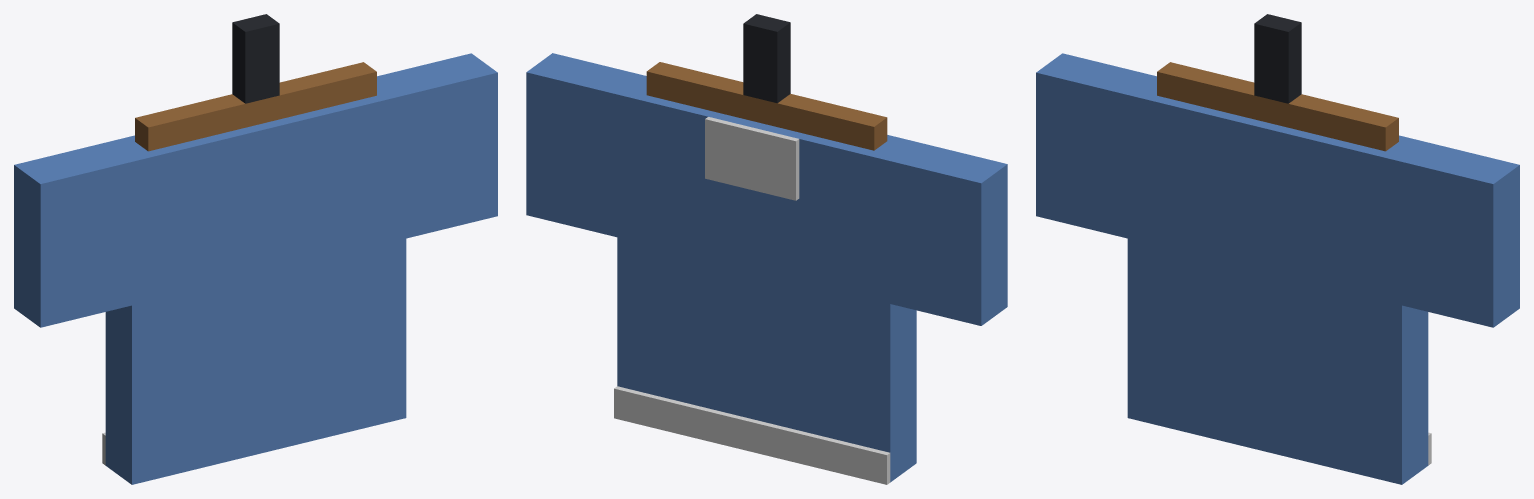
File: cp-shirt-blue.glb
3 views of the same model, side by side, from view 1: azimuth 30°, elevation 25°; view 2: azimuth 150°, elevation 25°; view 3: azimuth 330°, elevation 25° (orthographic).
Parts seen in each view (by area): view 1: box-prop; view 2: box-prop; view 3: box-prop.
Boxes of the visible parts, x1,y1,x2,y2 form: box-prop: (14, 14, 497, 484); box-prop: (526, 14, 1007, 484); box-prop: (1036, 14, 1519, 484).
Size of the model in its own units: 0.8 by 0.7 by 0.09.
